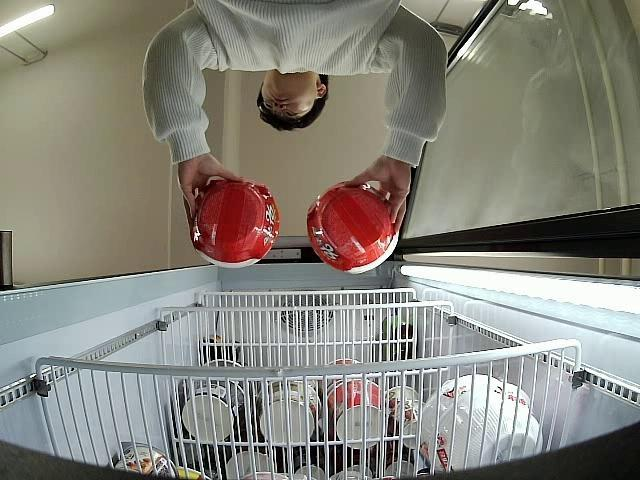10_wangTtukkeong: (189, 180, 280, 268), (308, 184, 396, 274)
